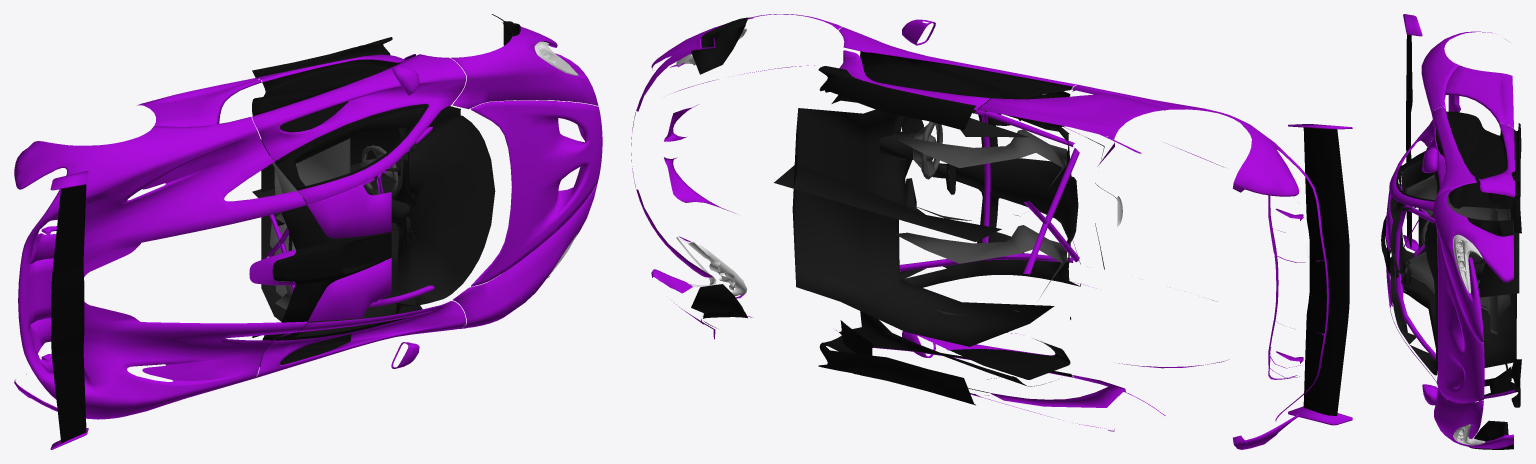
Rendered from showroomchassis.glb.
The picture shows the model from 3 angles, left to right: view 1: azimuth 30°, elevation 25°; view 2: azimuth 150°, elevation 25°; view 3: azimuth 270°, elevation 25°; orthographic projection. The views are drawn at different scales.
Visible parts, largest first — view 1: showroomchassis; view 2: showroomchassis; view 3: showroomchassis.
Boxes of the visible parts, x1,y1,x2,y2 form: showroomchassis: (14, 14, 602, 449); showroomchassis: (631, 14, 1352, 449); showroomchassis: (1381, 14, 1521, 449).
Bounding box in the file's own units: 2.34 × 1.11 × 0.5575.
